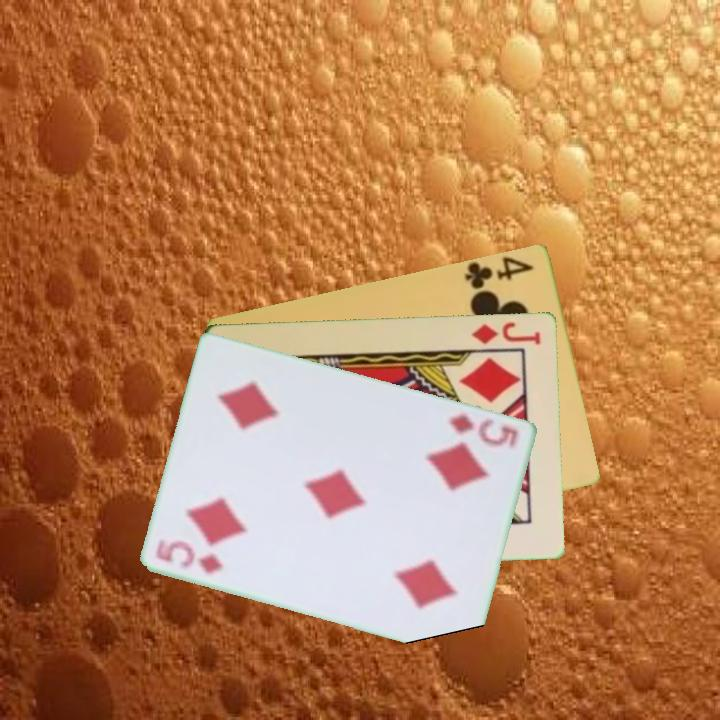4c: (461, 252, 537, 292)
5d: (445, 410, 522, 452), (153, 535, 228, 576)
Jd: (468, 318, 544, 347)
